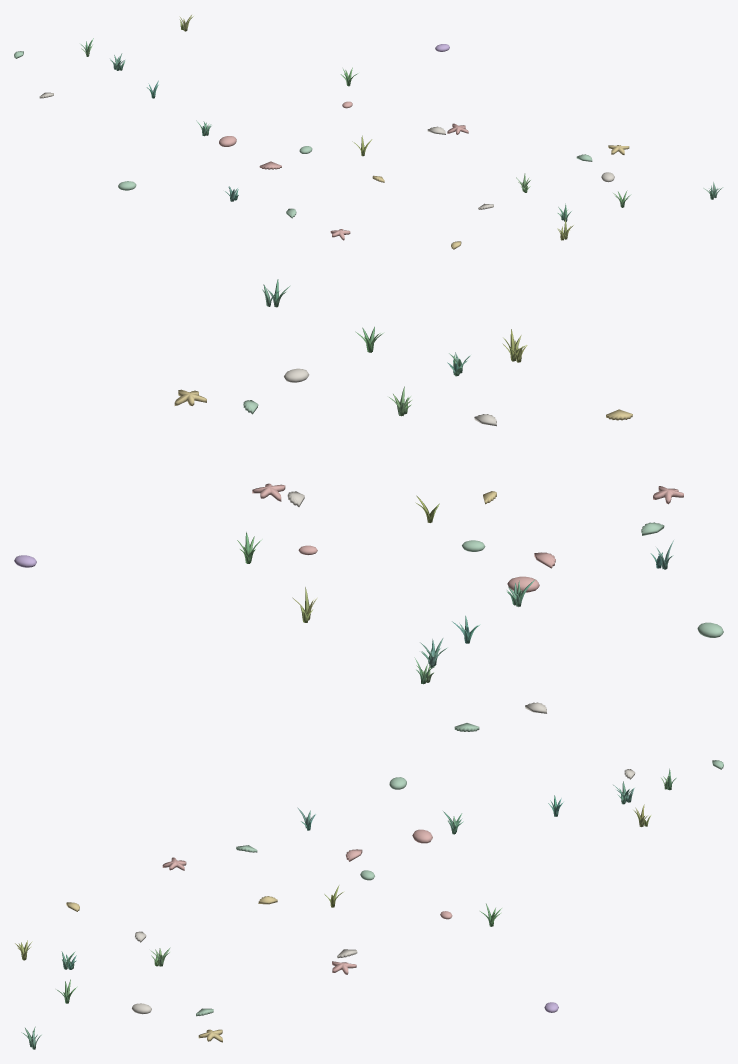
File: W2_FloraRing_11_11.fbx
3 renders of one model, top to bottom at view 1: azimuth 30°, elevation 25°; view 2: azimuth 150°, elevation 25°; view 3: azimuth 270°, elevation 25°, orthographic. The views are drawn at different scales.
Visible parts, largest first — view 1: W2_FloraRing_11_11; view 2: W2_FloraRing_11_11; view 3: W2_FloraRing_11_11.
Part boxes in pixels (x1,y1,x2,y2): W2_FloraRing_11_11: (14,15,723,249); W2_FloraRing_11_11: (14,279,723,731); W2_FloraRing_11_11: (15,760,723,1049).
Bounding box in the file's own units: 3.57 × 0.5407 × 4.05.
